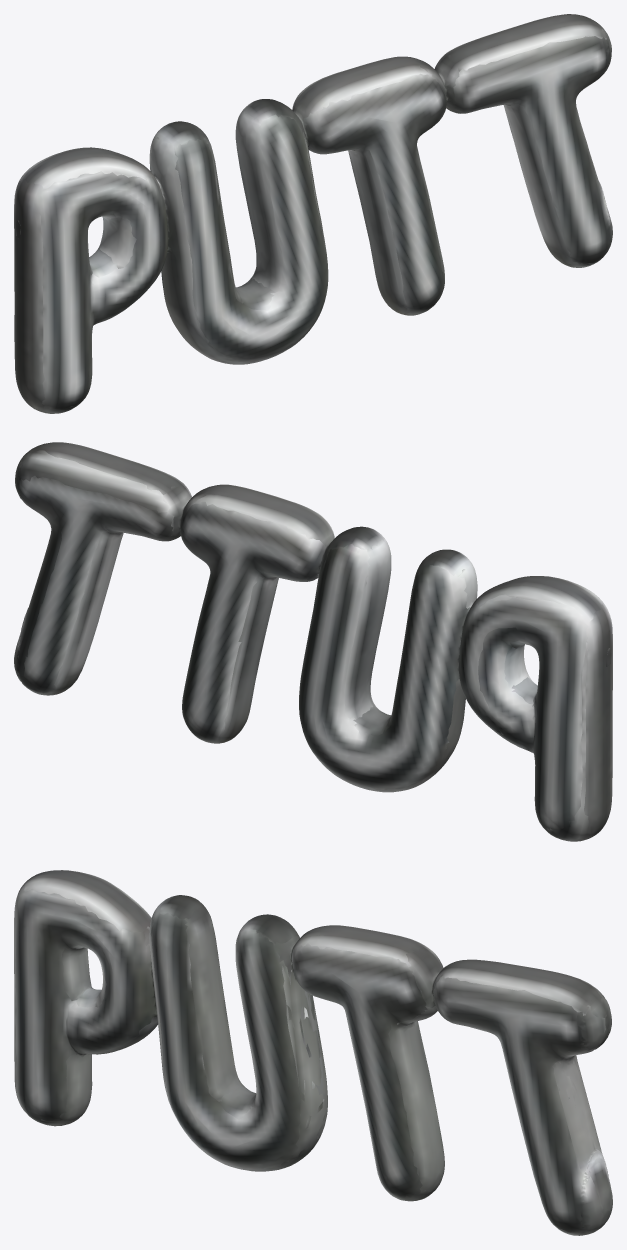
File: putt.glb
3 renders of one model, top to bottom at view 1: azimuth 30°, elevation 25°; view 2: azimuth 150°, elevation 25°; view 3: azimuth 330°, elevation 25°, orthographic.
Parts seen in each view (by area): view 1: tmpidcl_qxs.ply; view 2: tmpidcl_qxs.ply; view 3: tmpidcl_qxs.ply.
Boxes of the visible parts, bbox=[...] form: tmpidcl_qxs.ply: bbox=[14, 14, 612, 413]; tmpidcl_qxs.ply: bbox=[14, 442, 612, 841]; tmpidcl_qxs.ply: bbox=[14, 870, 612, 1235].
Bounding box in the file's own units: 1.96 × 0.8518 × 0.2262.
Materials: 1 (1 with a texture image).
